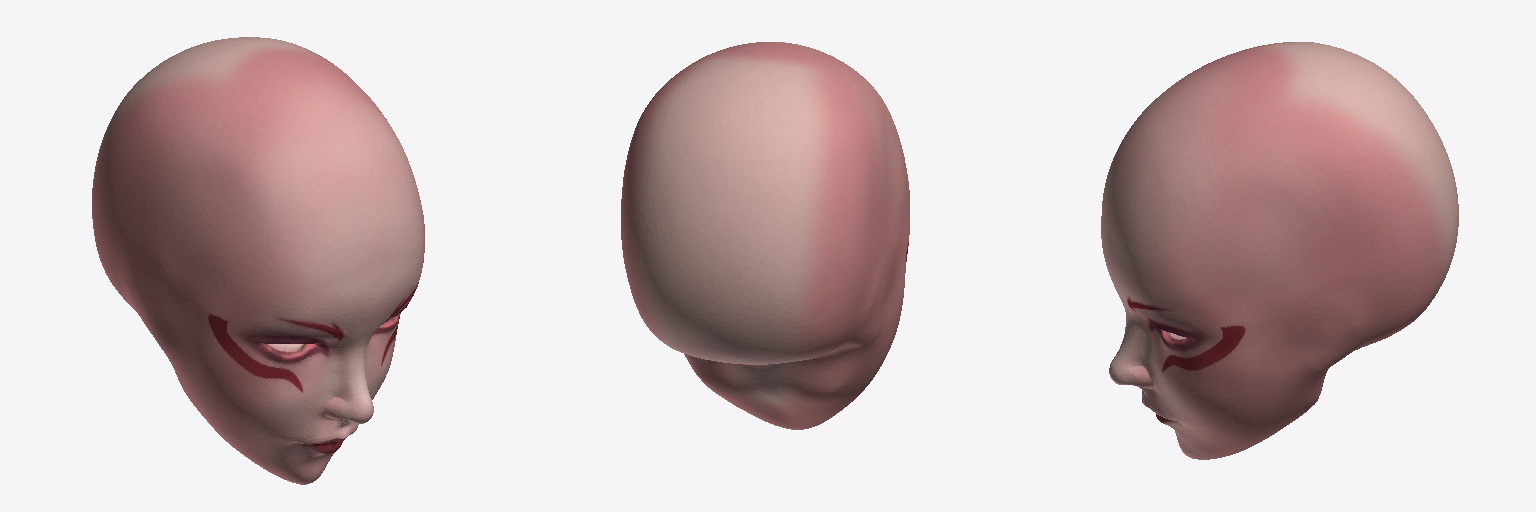
The picture shows the model from 3 angles: view 1: azimuth 30°, elevation 25°; view 2: azimuth 150°, elevation 25°; view 3: azimuth 270°, elevation 25°; orthographic projection.
Visible parts, largest first — view 1: Group30175; view 2: Group30175; view 3: Group30175.
Part boxes in pixels (x1,y1,x2,y2): Group30175: (92, 37, 424, 484); Group30175: (621, 42, 909, 429); Group30175: (1101, 42, 1458, 459).
Bounding box in the file's own units: 0.4457 × 0.701 × 0.5711.
1 materials, 1 textured.